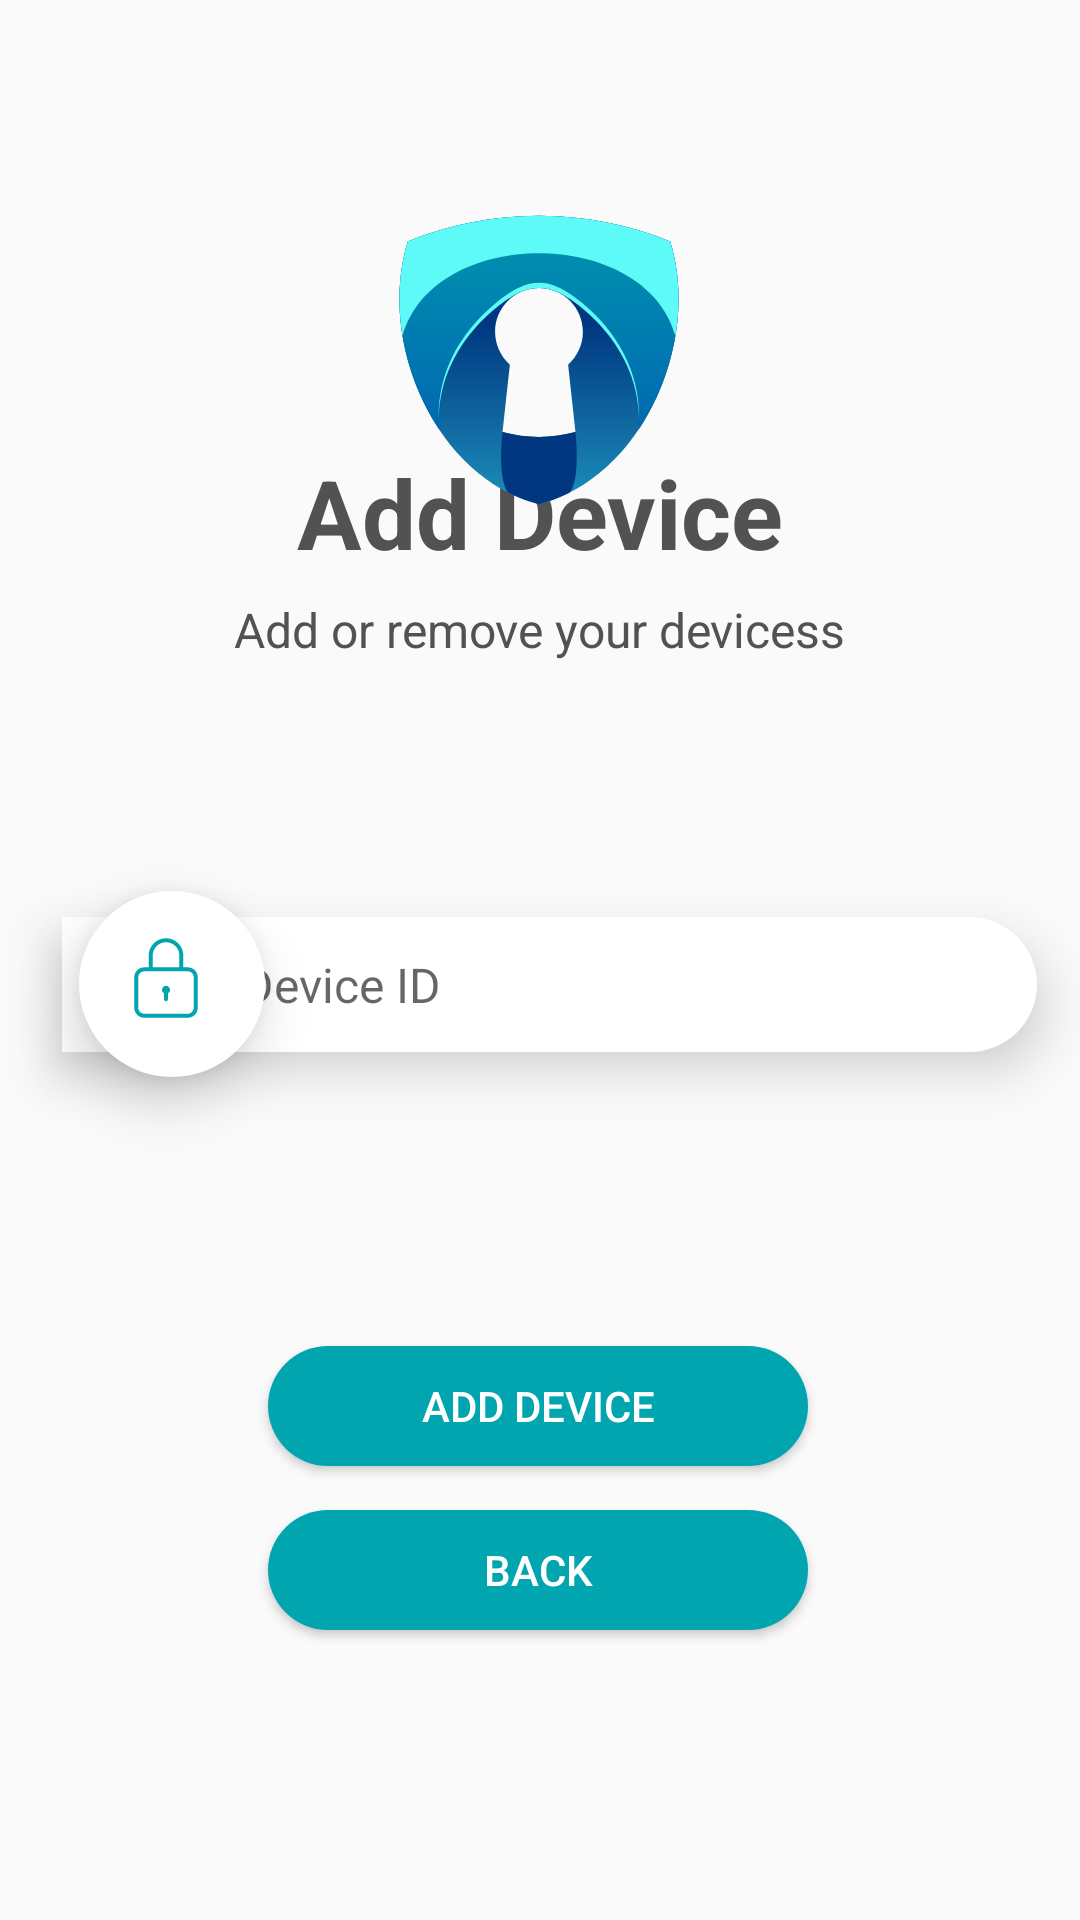

Screen size 1080 x 1920. Icon name, then its center in pixels as (x=x, y=y):
lock: (x=166, y=978)
